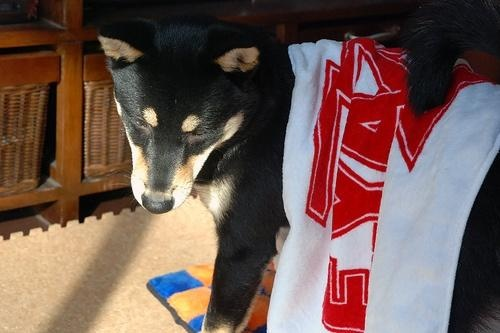dog: (98, 1, 500, 333)
